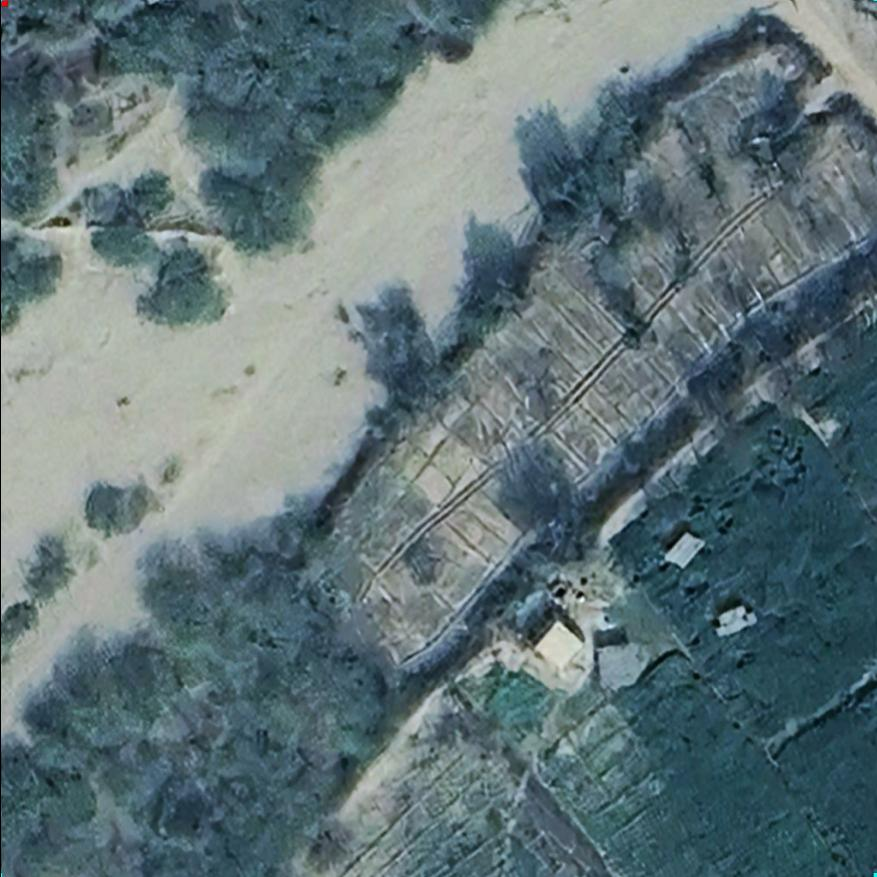Solarpanel: (711, 600, 758, 639), (662, 533, 706, 570)
